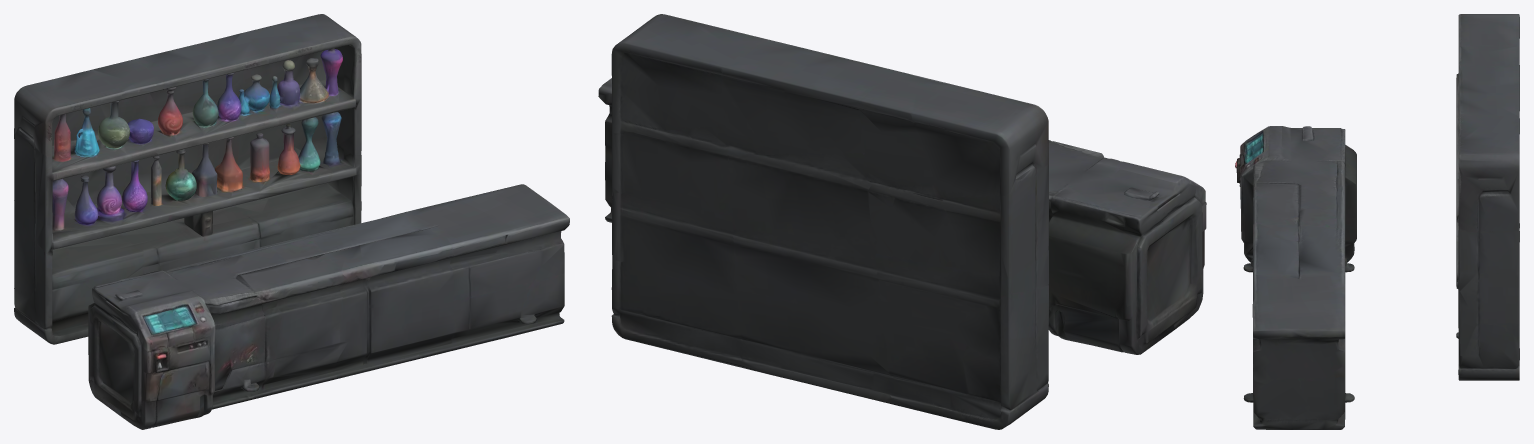
Rendered from cantina_bar.glb.
The picture shows the model from 3 angles, left to right: view 1: azimuth 30°, elevation 25°; view 2: azimuth 150°, elevation 25°; view 3: azimuth 270°, elevation 25°; orthographic projection. The views are drawn at different scales.
Parts seen in each view (by area): view 1: tripo_node_e199f09e-ae5a-46b7-8f91-60a1d2238e36; view 2: tripo_node_e199f09e-ae5a-46b7-8f91-60a1d2238e36; view 3: tripo_node_e199f09e-ae5a-46b7-8f91-60a1d2238e36.
Boxes of the visible parts, x1,y1,x2,y2 form: tripo_node_e199f09e-ae5a-46b7-8f91-60a1d2238e36: [14, 14, 569, 429]; tripo_node_e199f09e-ae5a-46b7-8f91-60a1d2238e36: [598, 14, 1206, 429]; tripo_node_e199f09e-ae5a-46b7-8f91-60a1d2238e36: [1235, 14, 1519, 429].
Size of the model in its own units: 0.9997 by 0.5277 by 0.593.
1 material, 1 textured.
